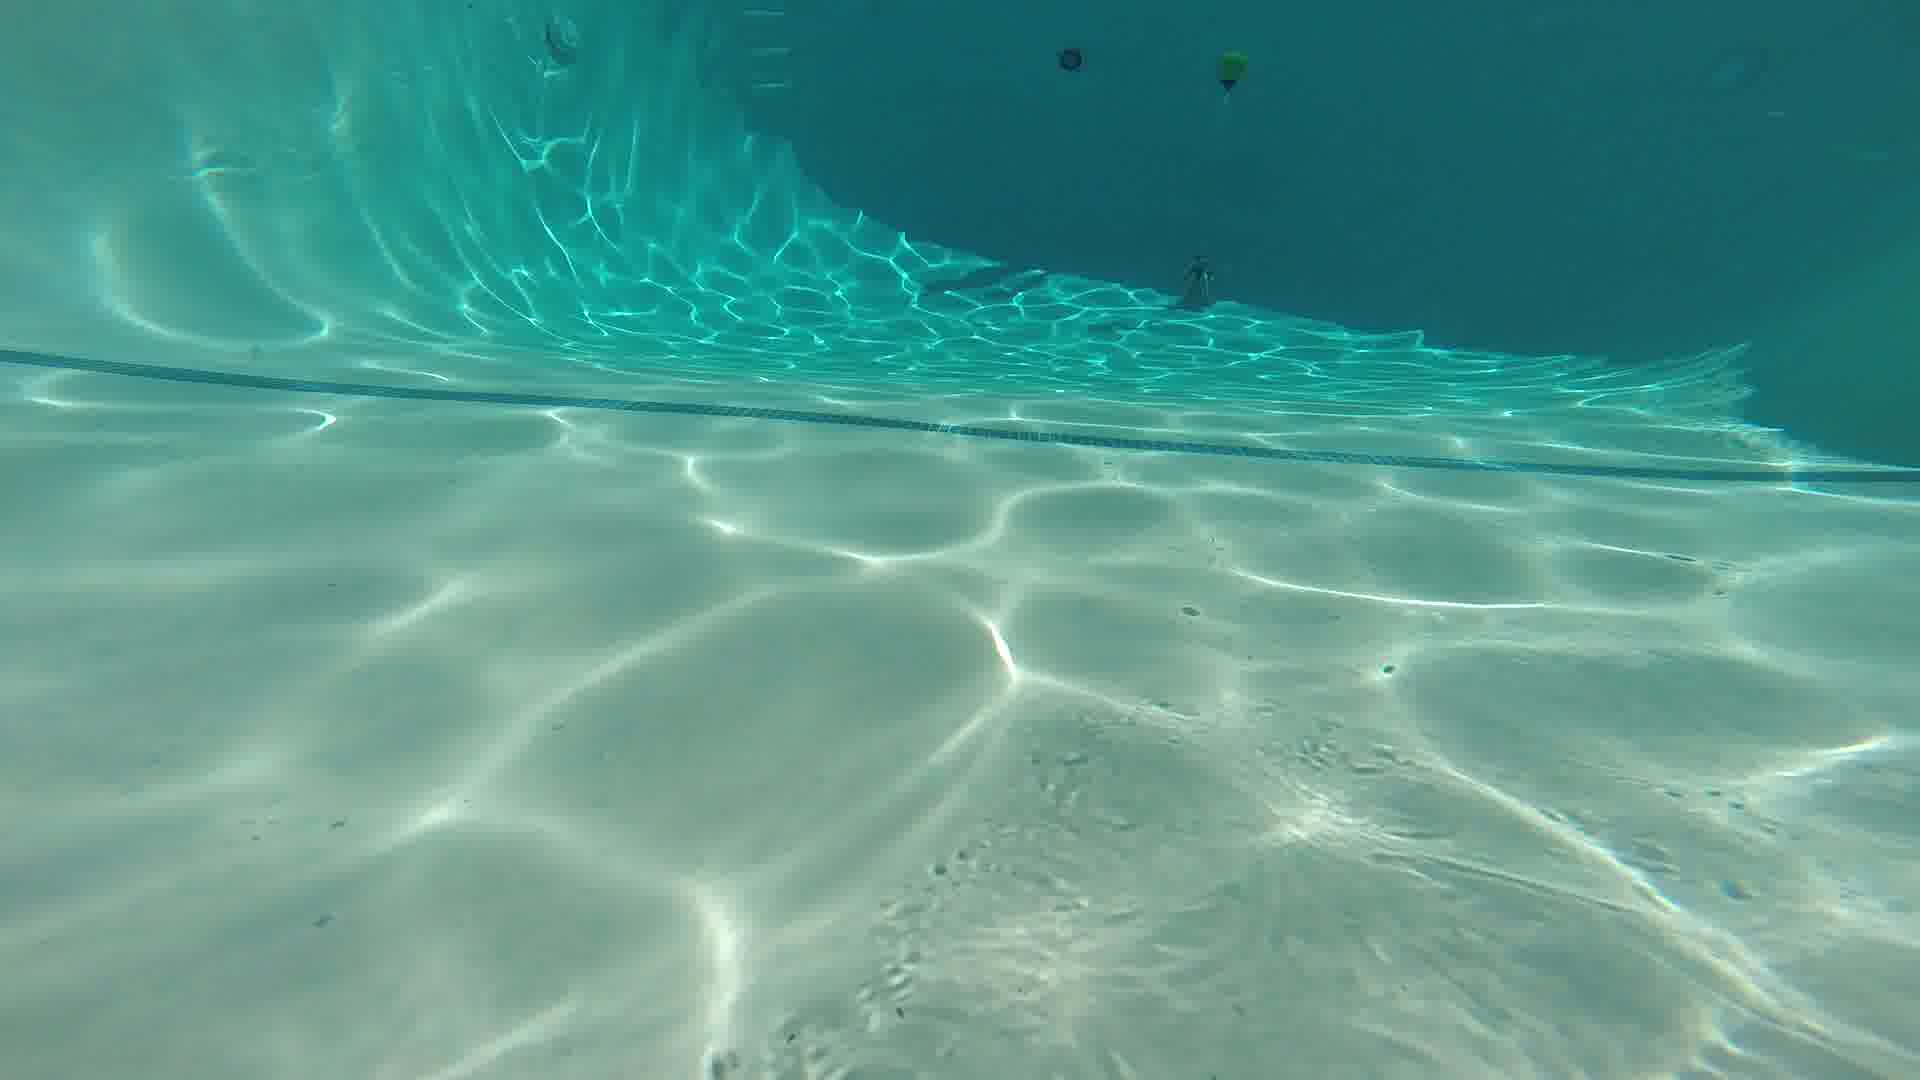yellow buoy: (1208, 45, 1253, 102)
